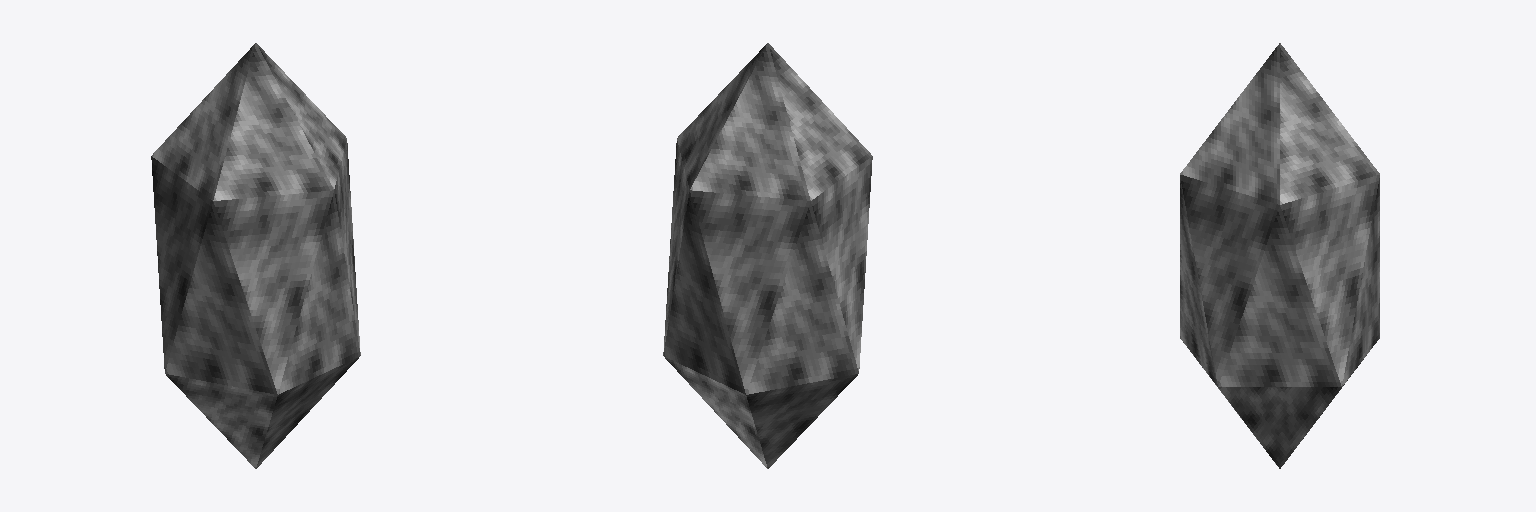
3 renders of one model, left to right at view 1: azimuth 30°, elevation 25°; view 2: azimuth 150°, elevation 25°; view 3: azimuth 270°, elevation 25°, orthographic.
Size of the model in its own units: 0.2993 by 0.6693 by 0.2847.
1 materials, 1 textured.